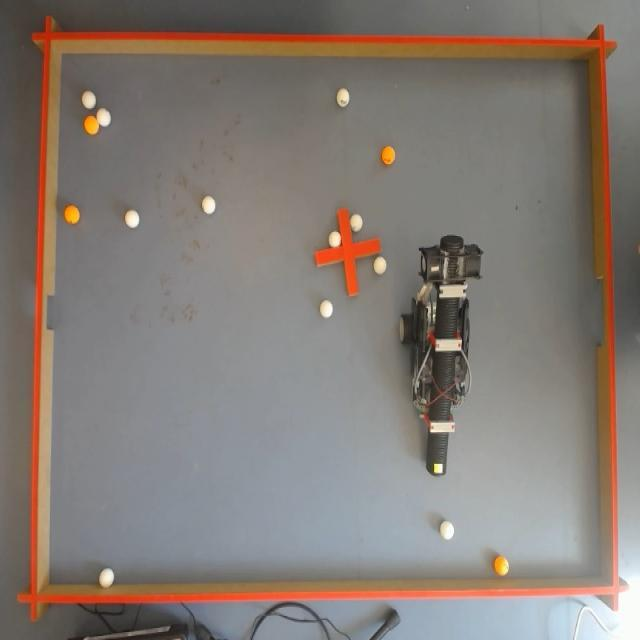orange: (494, 554, 512, 576), (64, 202, 80, 224), (84, 116, 100, 135), (384, 147, 397, 162)
robot: (403, 229, 478, 472)
white: (98, 568, 114, 588), (440, 518, 454, 540), (83, 89, 97, 110), (348, 213, 362, 233), (95, 108, 109, 128), (336, 88, 350, 107), (319, 298, 332, 318), (202, 196, 214, 216), (125, 212, 138, 230), (374, 256, 386, 275), (330, 230, 340, 248)
